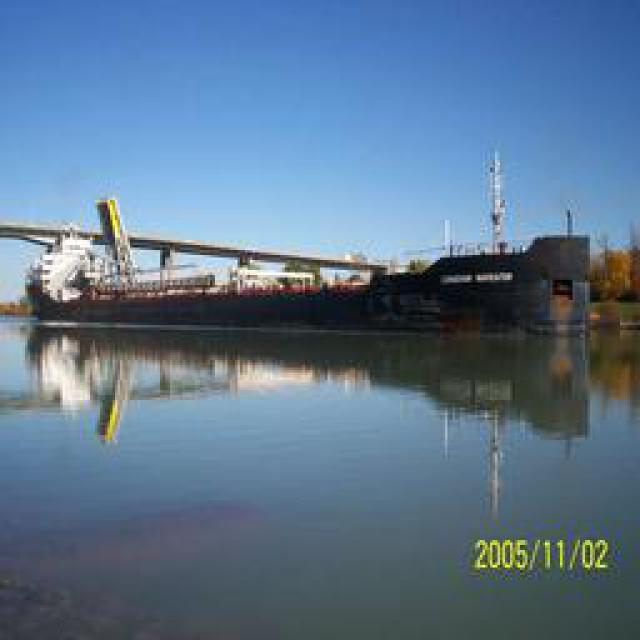Ship: (11, 196, 603, 352)
